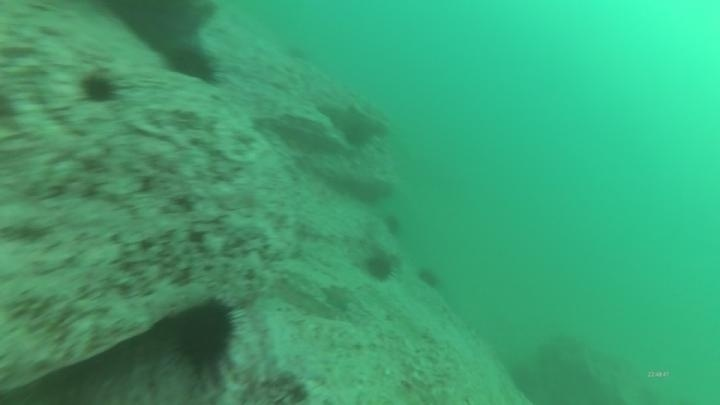echinus: (166, 295, 242, 375), (162, 41, 222, 86), (77, 70, 121, 106), (361, 250, 398, 284), (415, 265, 444, 291), (381, 211, 405, 238)
starfish: (319, 282, 356, 314)
